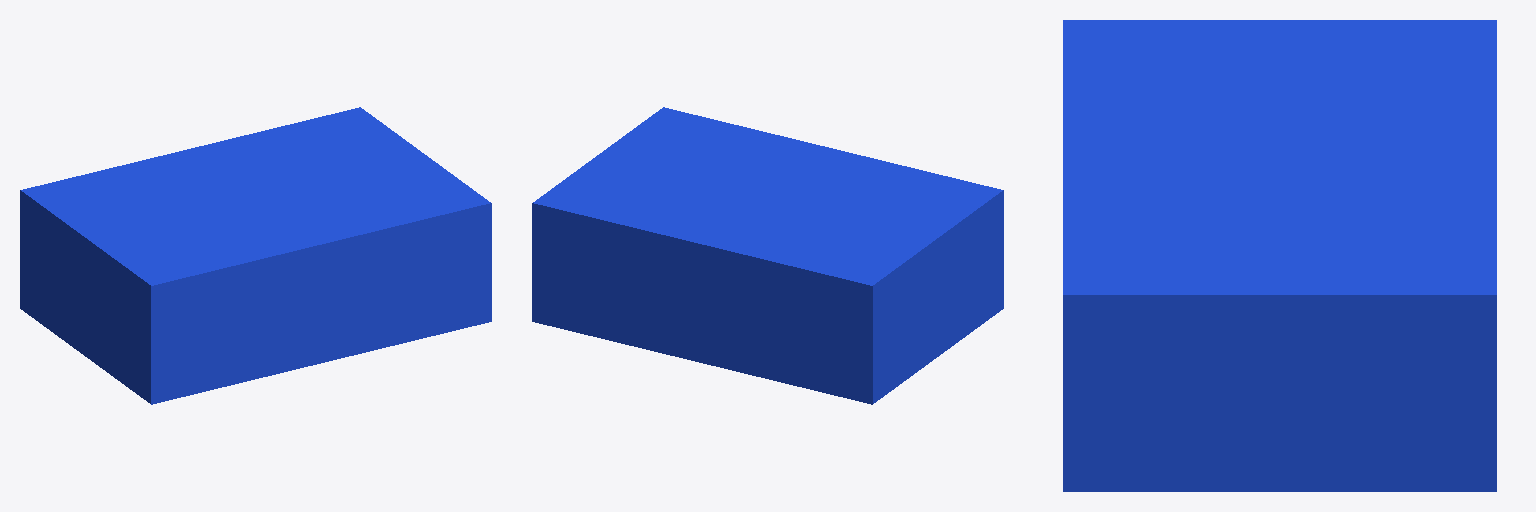
robot.urdf — trapezoid:
<?xml version='1.0' encoding='UTF-8'?>
<robot name="trapezoid">
  <link name="base_link">
    <inertial>
      <origin xyz="0.0 0.0 0.0" rpy="0.0 -0.0 0.0"/>
      <mass value="1.0"/>
      <inertia ixx="1.0" ixy="0.0" ixz="0.0" iyy="1.0" iyz="0.0" izz="1.0"/>
    </inertial>
    <visual name="base_link_visual">
      <geometry>
        <box size="1.375 0.917 0.459"/>
      </geometry>
      <origin xyz="0 0 0" rpy="0 0 0"/>
      <material name="object_color">
        <color rgba="0.2 0.4 0.95 1"/>
      </material>
    </visual>
    <collision name="base_link_collision">
      <geometry>
        <box size="1.375 0.917 0.459"/>
      </geometry>
      <origin xyz="0 0 0" rpy="0 0 0"/>
    </collision>
  </link>
</robot> 

--- Facts derived from the render (not from the file) ---
The picture shows the robot from 3 angles, left to right: view 1: azimuth 30°, elevation 25°; view 2: azimuth 150°, elevation 25°; view 3: azimuth 270°, elevation 25°; orthographic projection.
Robot: trapezoid — 1 links, 0 joints (none); root link base_link; default pose: all joints at 0.
Visible links, largest first — view 1: base_link; view 2: base_link; view 3: base_link.
Link boxes in pixels (bbox=[...]): base_link: bbox=[20, 107, 491, 404]; base_link: bbox=[532, 107, 1003, 404]; base_link: bbox=[1063, 20, 1496, 491].
Size in the robot's own frame: 1.38 by 0.917 by 0.459 metres.
Geometry: primitives only (box / cylinder / sphere), no mesh files.
